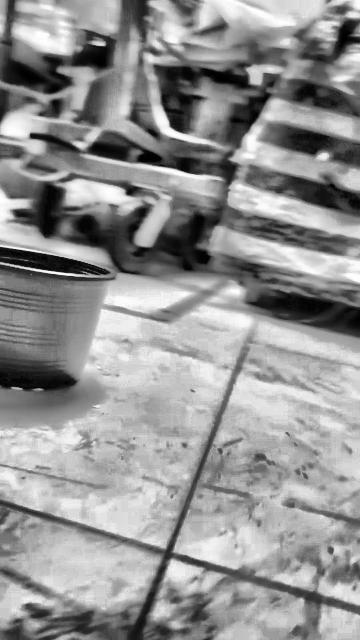pot: (0, 246, 117, 390)
